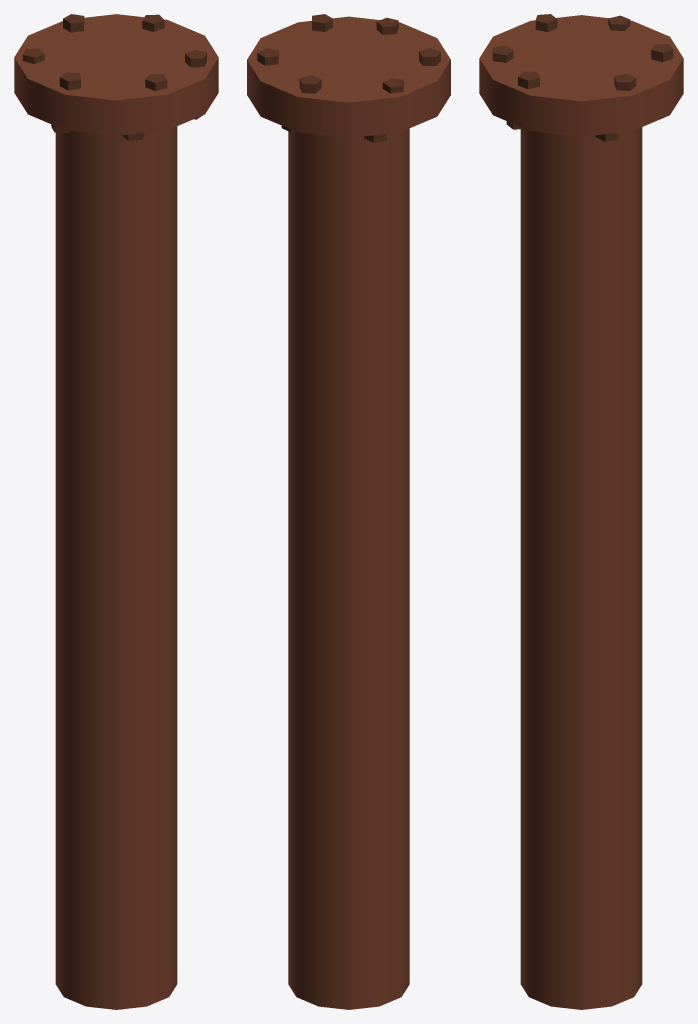
The model's file is canos_003.fbx.
3 views of the same model, side by side, from view 1: azimuth 30°, elevation 25°; view 2: azimuth 150°, elevation 25°; view 3: azimuth 270°, elevation 25° (orthographic).
Parts seen in each view (by area): view 1: canos_003; view 2: canos_003; view 3: canos_003.
Part boxes in pixels (x1,y1,x2,y2): canos_003: (14,14,218,1009); canos_003: (247,14,450,1009); canos_003: (479,14,683,1009).
Bounding box in the file's own units: 121 × 611 × 121.
